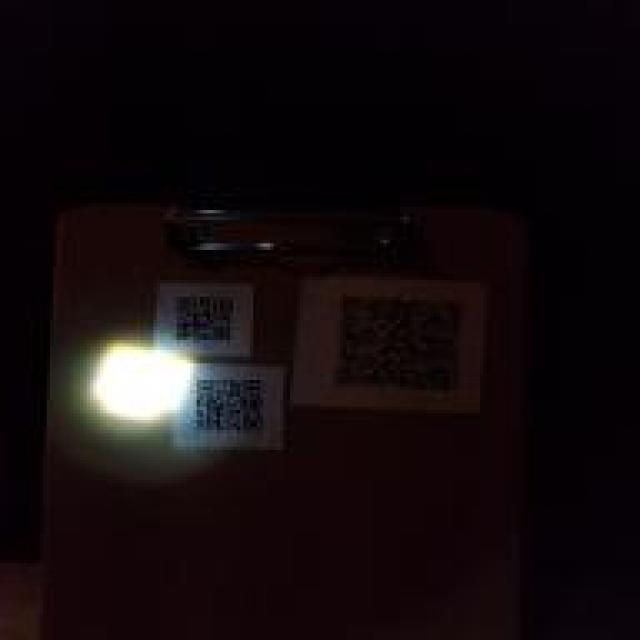QR_CODE: (327, 280, 470, 403), (185, 370, 273, 443), (160, 286, 243, 346)
